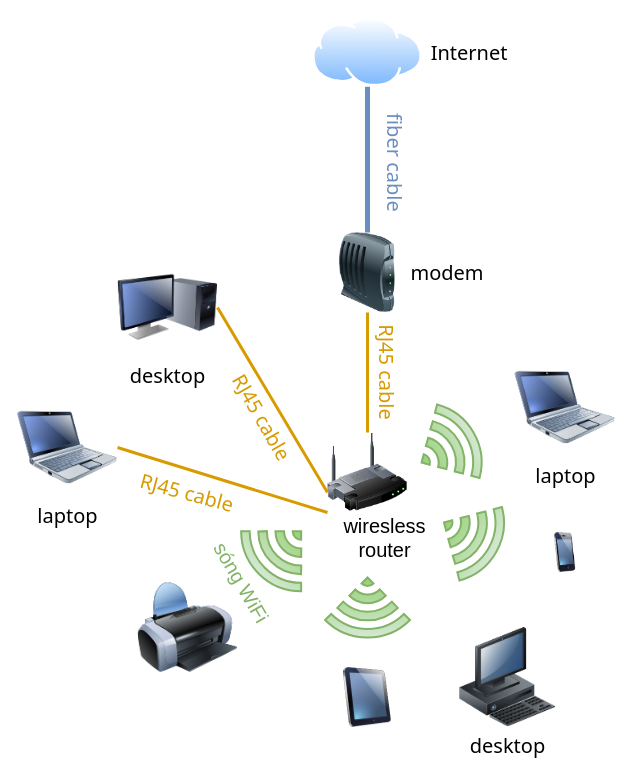
The diagram is 640 pixels wide and 775 high, and some of its shapes have lost their labels. The centre of each missing label's shape, as x and y in pixels:
"printer" goes at (x=187, y=627).
"smartphone" goes at (x=564, y=552).
"Tablet" goes at (x=367, y=697).
